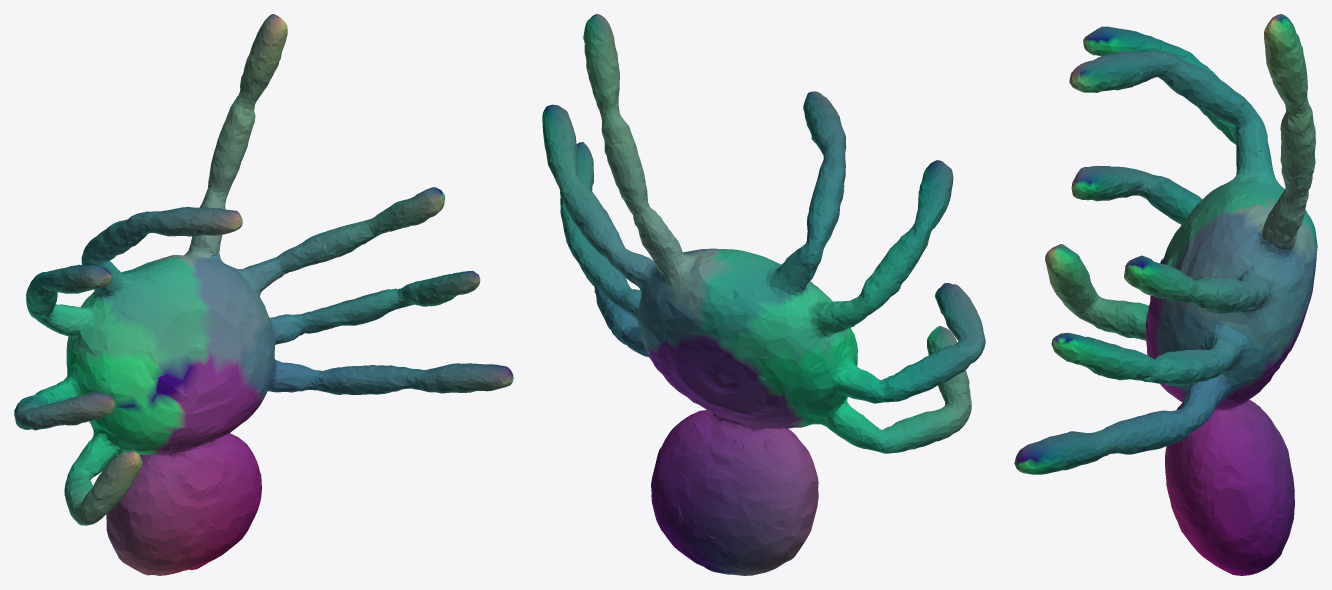
The model's file is spider-18.off.obj.
3 views of the same model, side by side, from view 1: azimuth 30°, elevation 25°; view 2: azimuth 150°, elevation 25°; view 3: azimuth 270°, elevation 25° (orthographic). The views are drawn at different scales.
Bounding box in the file's own units: 1.29 × 1.43 × 0.6409.
